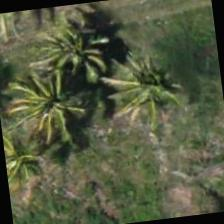Kelapa_Sawit: (5, 57, 105, 157), (101, 42, 201, 142), (29, 0, 130, 99), (0, 111, 64, 208)
